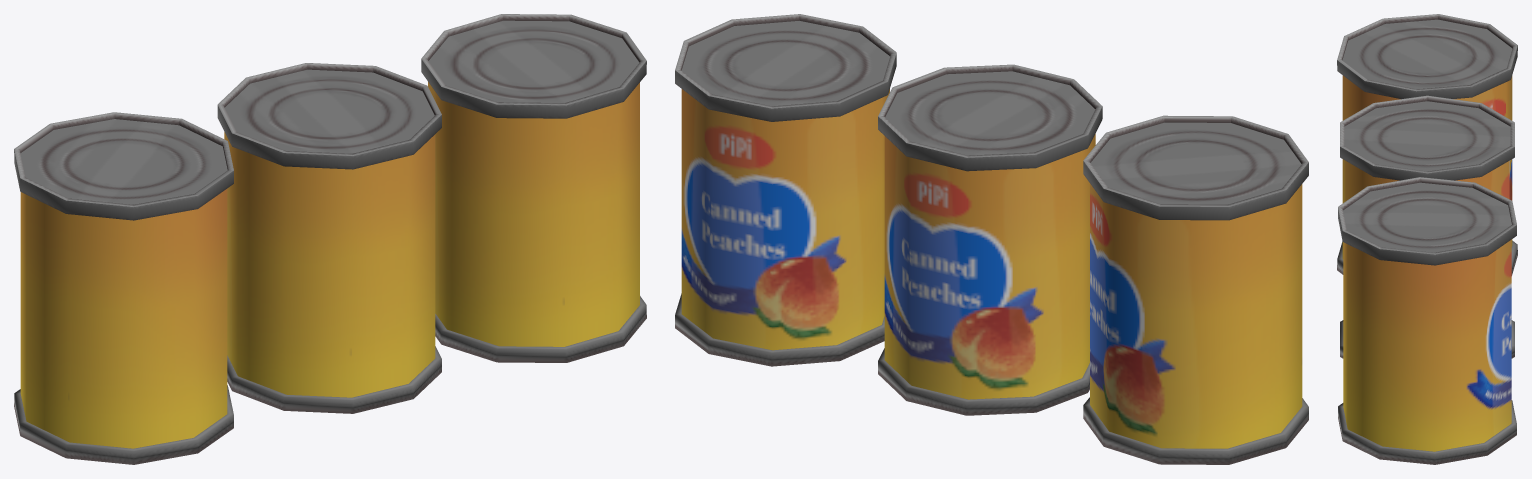
File: cans.fbx
The picture shows the model from 3 angles, left to right: view 1: azimuth 30°, elevation 25°; view 2: azimuth 150°, elevation 25°; view 3: azimuth 270°, elevation 25°; orthographic projection. The views are drawn at different scales.
Visible parts, largest first — view 1: cans; view 2: cans; view 3: cans.
Boxes of the visible parts, <box> form: cans: <box>14,14,646,464</box>; cans: <box>675,14,1308,464</box>; cans: <box>1337,14,1517,464</box>.
Size of the model in its own units: 33.72 by 13.75 by 10.7.
Materials: 1 (1 with a texture image).
